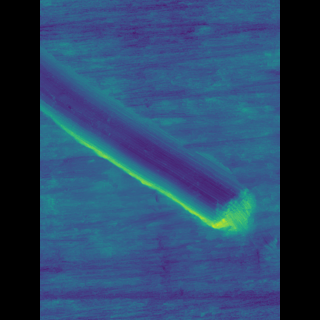Loch: (68, 42, 235, 245)
